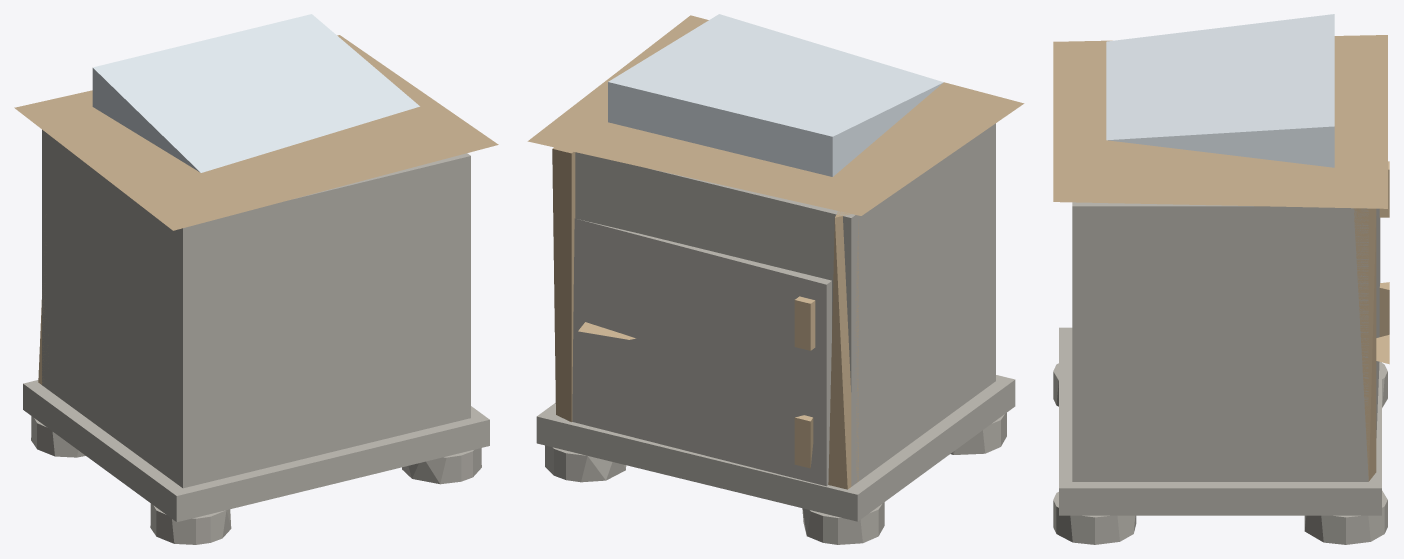
Rendered from 18-Casas_nevera_rustica.glb.
3 renders of one model, left to right at view 1: azimuth 30°, elevation 25°; view 2: azimuth 150°, elevation 25°; view 3: azimuth 270°, elevation 25°, orthographic. The views are drawn at different scales.
Visible parts, largest first — view 1: SM_Nevera_M_Mueble_Piedra, SM_Nevera_M_Mueble_Hielo, SM_Nevera_M_Mueble_Madera_Clara; view 2: SM_Nevera_M_Mueble_Piedra, SM_Nevera_M_Mueble_Madera_Oscura, SM_Nevera_M_Mueble_Madera_Clara, SM_Nevera_M_Mueble_Hielo, SM_Nevera_M_Mueble_Bronce; view 3: SM_Nevera_M_Mueble_Piedra, SM_Nevera_M_Mueble_Madera_Clara, SM_Nevera_M_Mueble_Hielo, SM_Nevera_M_Mueble_Bronce, SM_Nevera_M_Mueble_Madera_Oscura.
Boxes of the visible parts, box(x1,y1,x2,y2) form: SM_Nevera_M_Mueble_Piedra: box(23, 129, 489, 544); SM_Nevera_M_Mueble_Hielo: box(92, 14, 419, 172); SM_Nevera_M_Mueble_Madera_Clara: box(14, 35, 498, 384); SM_Nevera_M_Mueble_Piedra: box(536, 123, 1015, 544); SM_Nevera_M_Mueble_Madera_Oscura: box(572, 218, 831, 486); SM_Nevera_M_Mueble_Madera_Clara: box(527, 15, 1024, 489); SM_Nevera_M_Mueble_Hielo: box(608, 14, 943, 176); SM_Nevera_M_Mueble_Bronce: box(578, 296, 815, 468); SM_Nevera_M_Mueble_Piedra: box(1053, 202, 1387, 544); SM_Nevera_M_Mueble_Madera_Clara: box(1053, 35, 1387, 481); SM_Nevera_M_Mueble_Hielo: box(1106, 14, 1334, 167); SM_Nevera_M_Mueble_Bronce: box(1376, 161, 1389, 364); SM_Nevera_M_Mueble_Madera_Oscura: box(1376, 208, 1380, 437).
Size of the model in its own units: 1.04 by 1.14 by 0.885.
